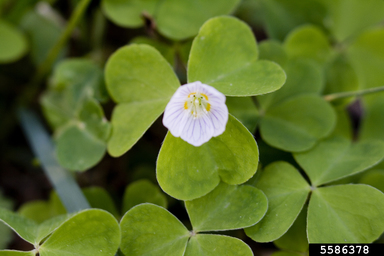oxalis: (60, 36, 384, 253)
